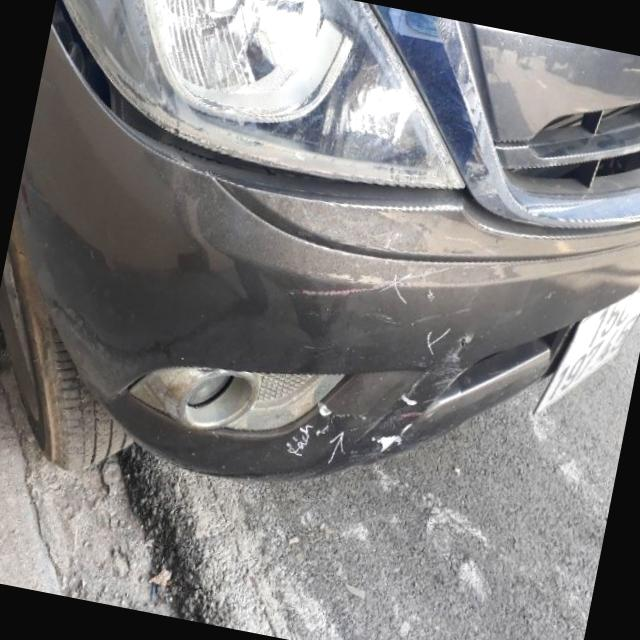Rayure: (276, 215, 473, 336), (352, 324, 474, 484)
